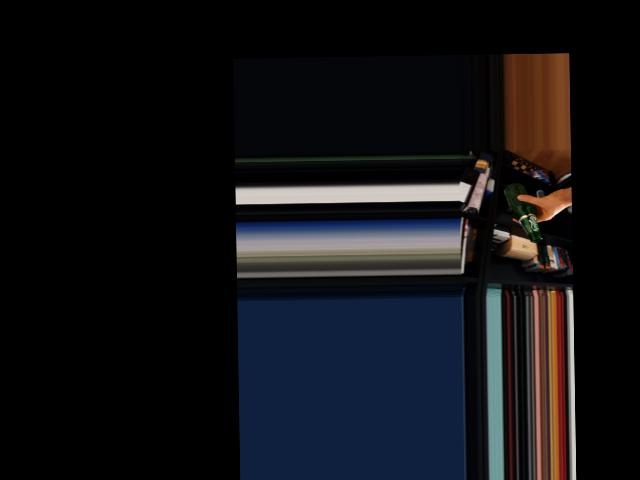beer: (502, 182, 542, 242)
